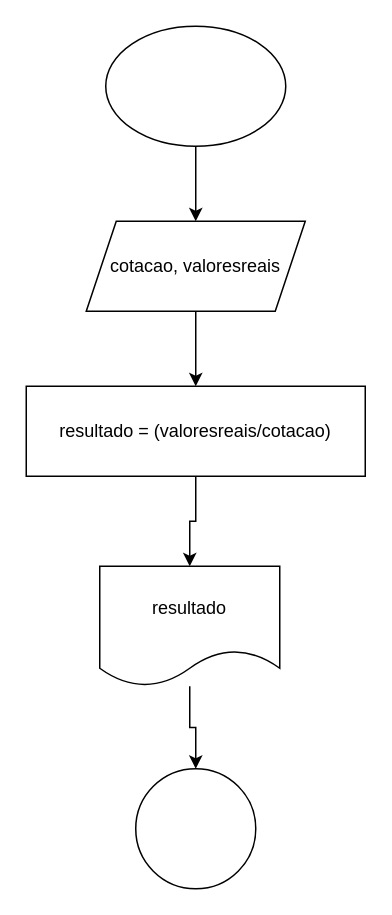
Image size: 392x915. Some labels were removed from this diagram. Here are the shapes that lost their labels. From the top down, the centre of each, then its label:
point (195, 85): inico
point (195, 828): fim
